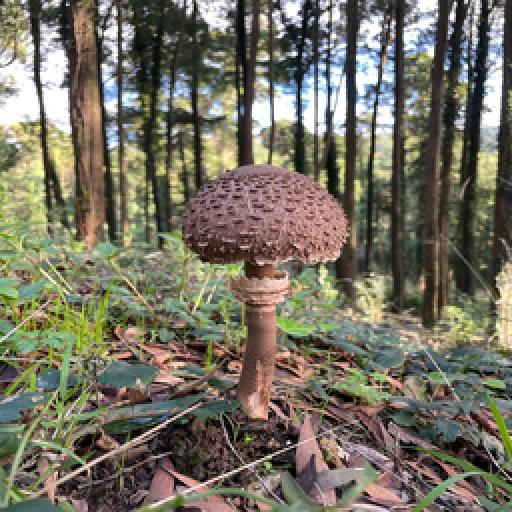mushrooms: (182, 164, 350, 420)
trees: (60, 0, 112, 246), (414, 0, 452, 320), (458, 0, 492, 316), (364, 0, 396, 308), (326, 0, 360, 260), (112, 0, 146, 236), (166, 0, 206, 198), (226, 0, 264, 170), (282, 0, 316, 178)
